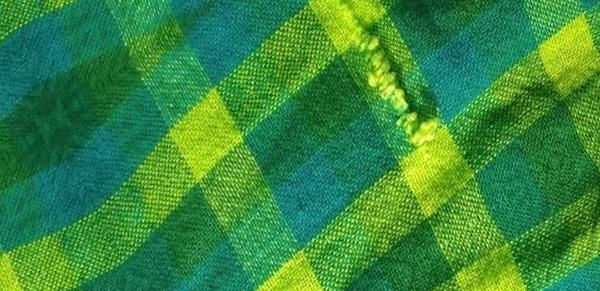knot: (336, 1, 450, 152)
